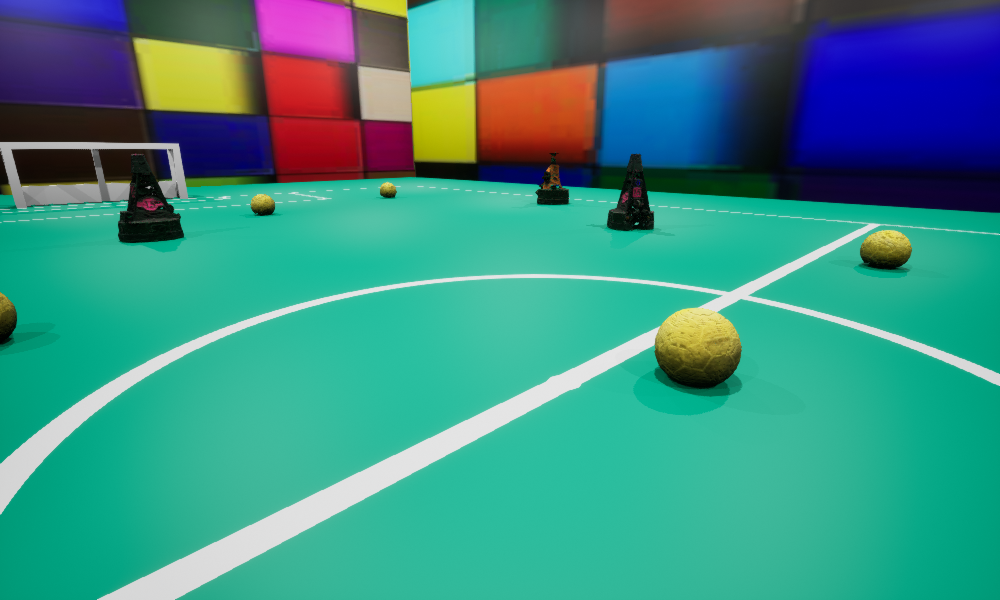b: (654, 308, 741, 385), (860, 230, 911, 268), (0, 292, 16, 341), (250, 194, 274, 213), (380, 182, 396, 196)
o: (535, 152, 568, 204)
p1: (118, 154, 183, 242), (607, 154, 653, 230)
